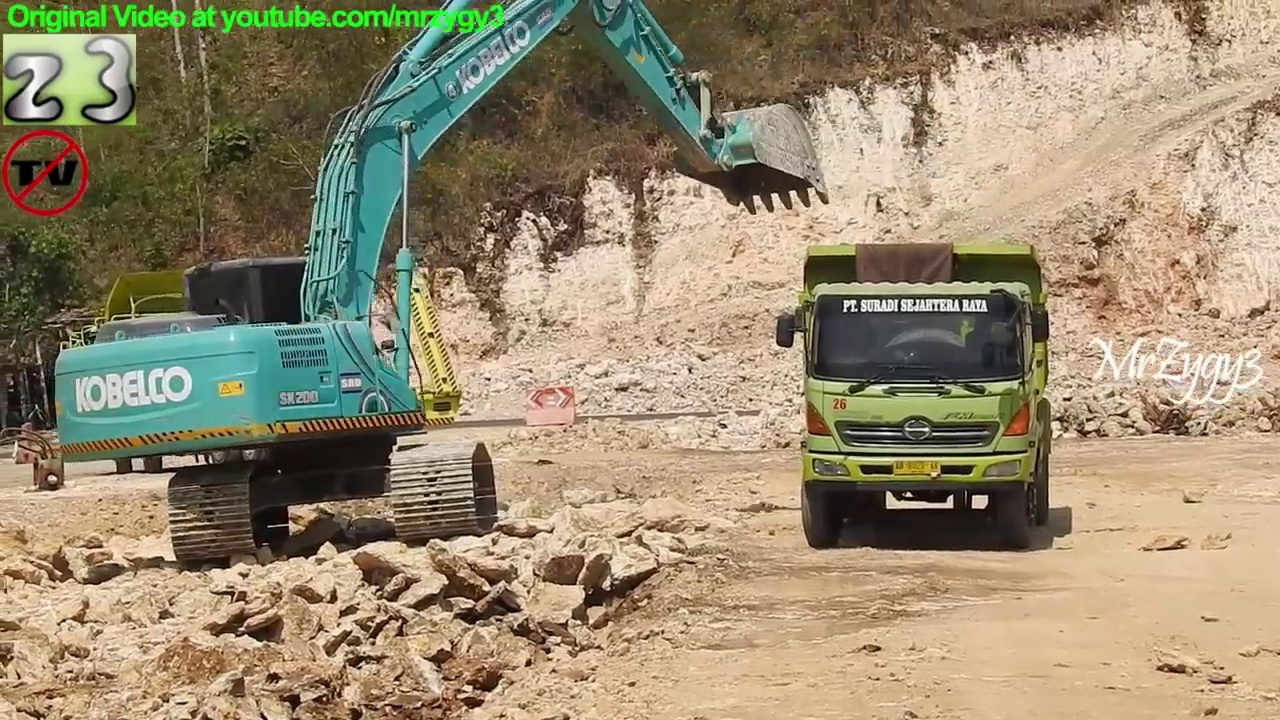excavator: (47, 1, 836, 569)
truck: (34, 258, 469, 475), (771, 241, 1055, 551)
